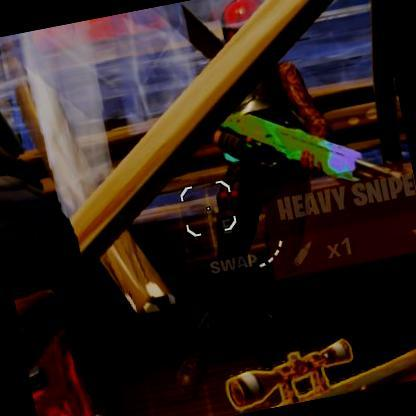person: (197, 22, 339, 324), (0, 55, 116, 416)
